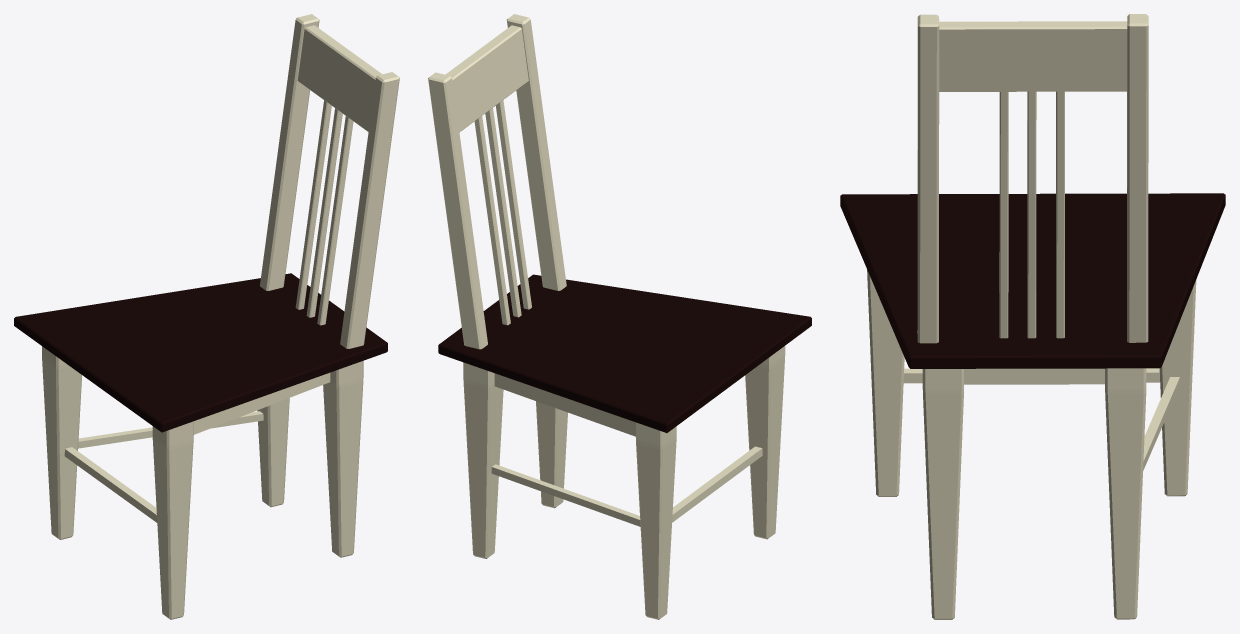
File: chair.fbx
The picture shows the model from 3 angles, left to right: view 1: azimuth 30°, elevation 25°; view 2: azimuth 150°, elevation 25°; view 3: azimuth 270°, elevation 25°; orthographic projection. The views are drawn at different scales.
Visible parts, largest first — view 1: chair1; view 2: chair1; view 3: chair1.
Boxes of the visible parts, left/top/right/bottom form: chair1: left=14, top=14, right=399, bottom=619; chair1: left=428, top=14, right=811, bottom=619; chair1: left=840, top=14, right=1225, bottom=619.
Bounding box in the file's own units: 113 × 189 × 106.
